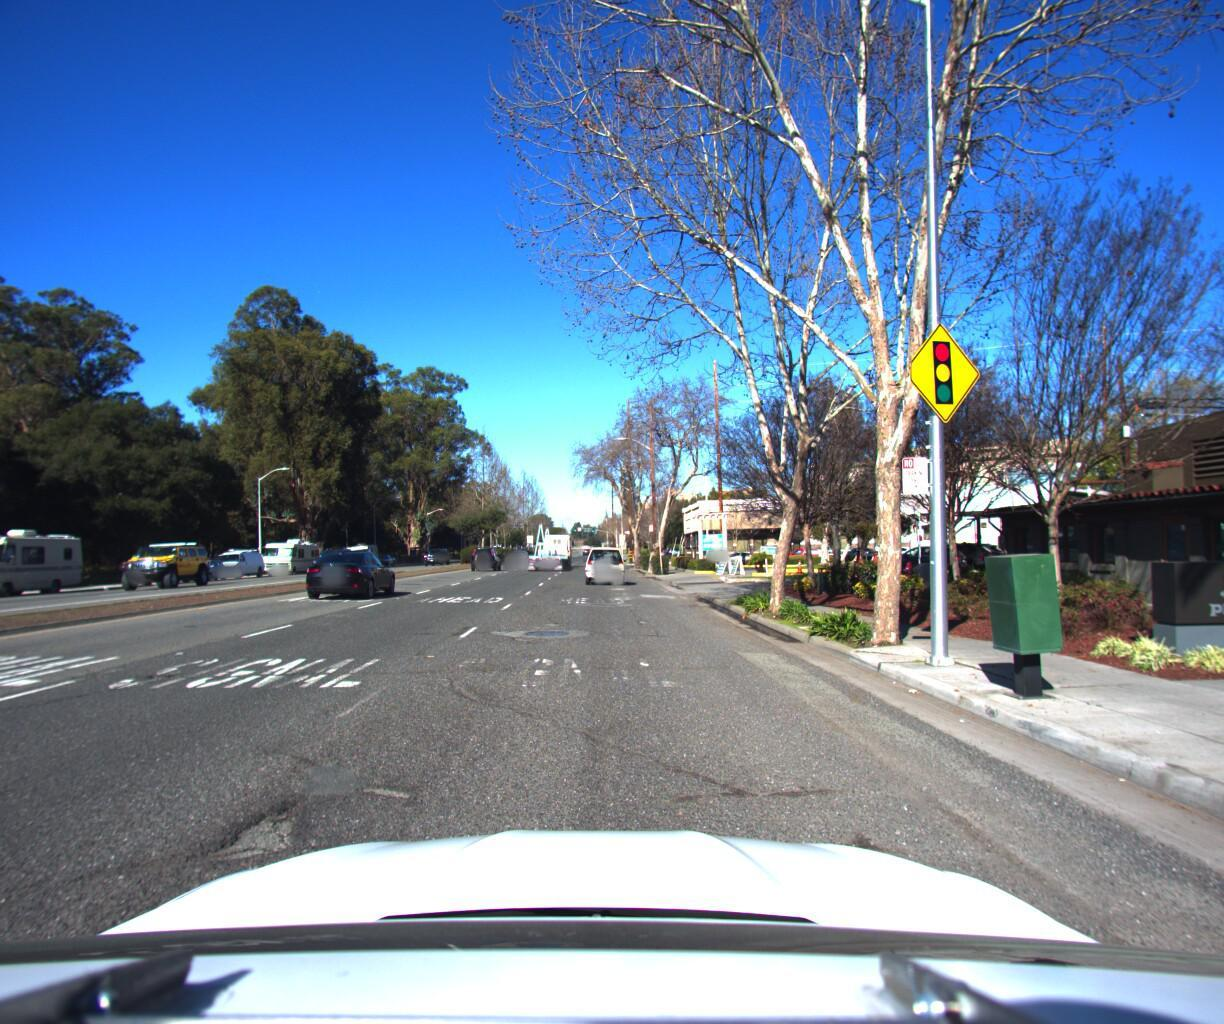car: (311, 544, 404, 598), (117, 535, 216, 585), (903, 531, 995, 560), (921, 532, 1008, 559), (205, 539, 270, 575), (173, 551, 235, 579), (582, 537, 625, 576), (472, 537, 504, 563), (507, 538, 531, 553)
other_vehicle: (251, 529, 326, 570)
truck: (522, 505, 574, 563)
